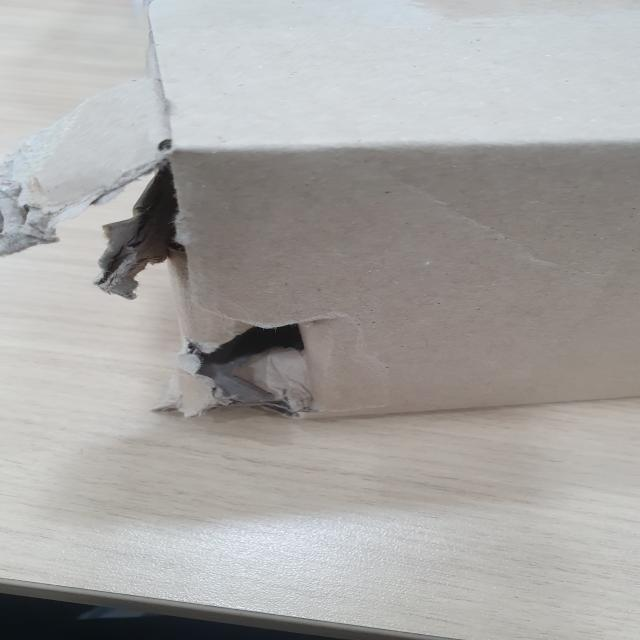hole: (115, 134, 325, 426)
